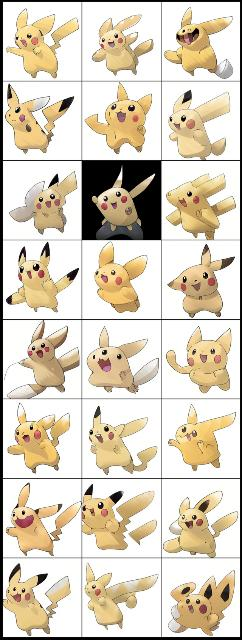pickachu: (3, 10, 78, 78), (85, 484, 155, 550), (90, 16, 154, 78)
